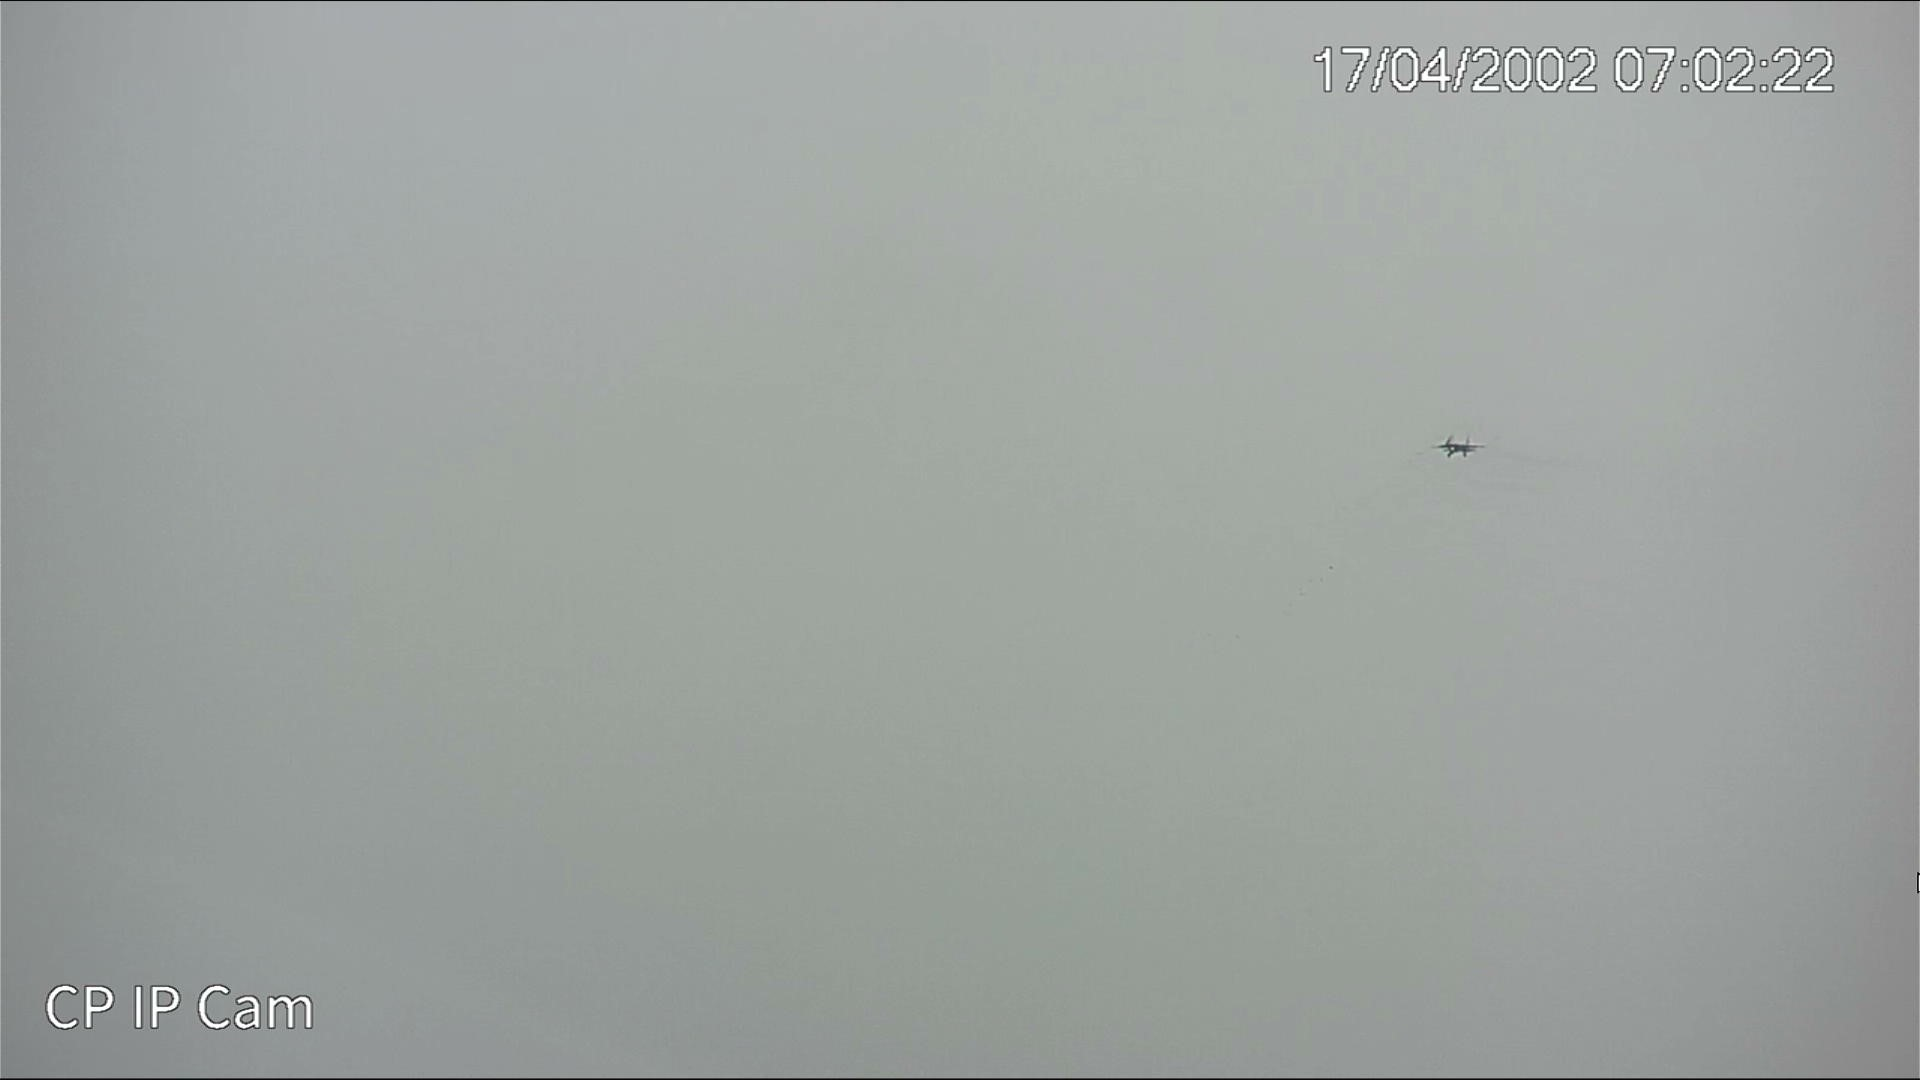SU_30: (1436, 435, 1486, 459)
